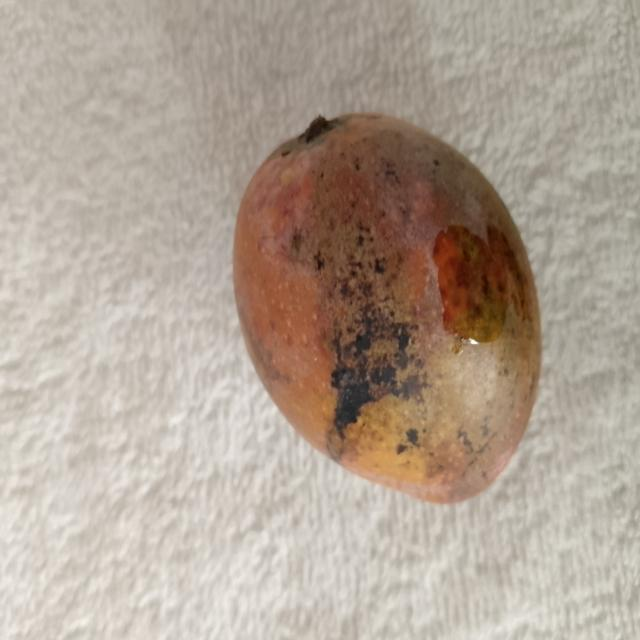mango: (234, 115, 540, 502)
